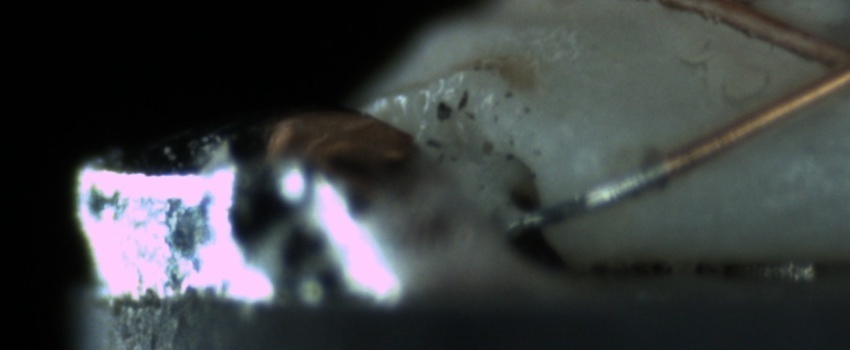CL: (773, 18, 849, 108)
TS: (511, 158, 664, 231)
